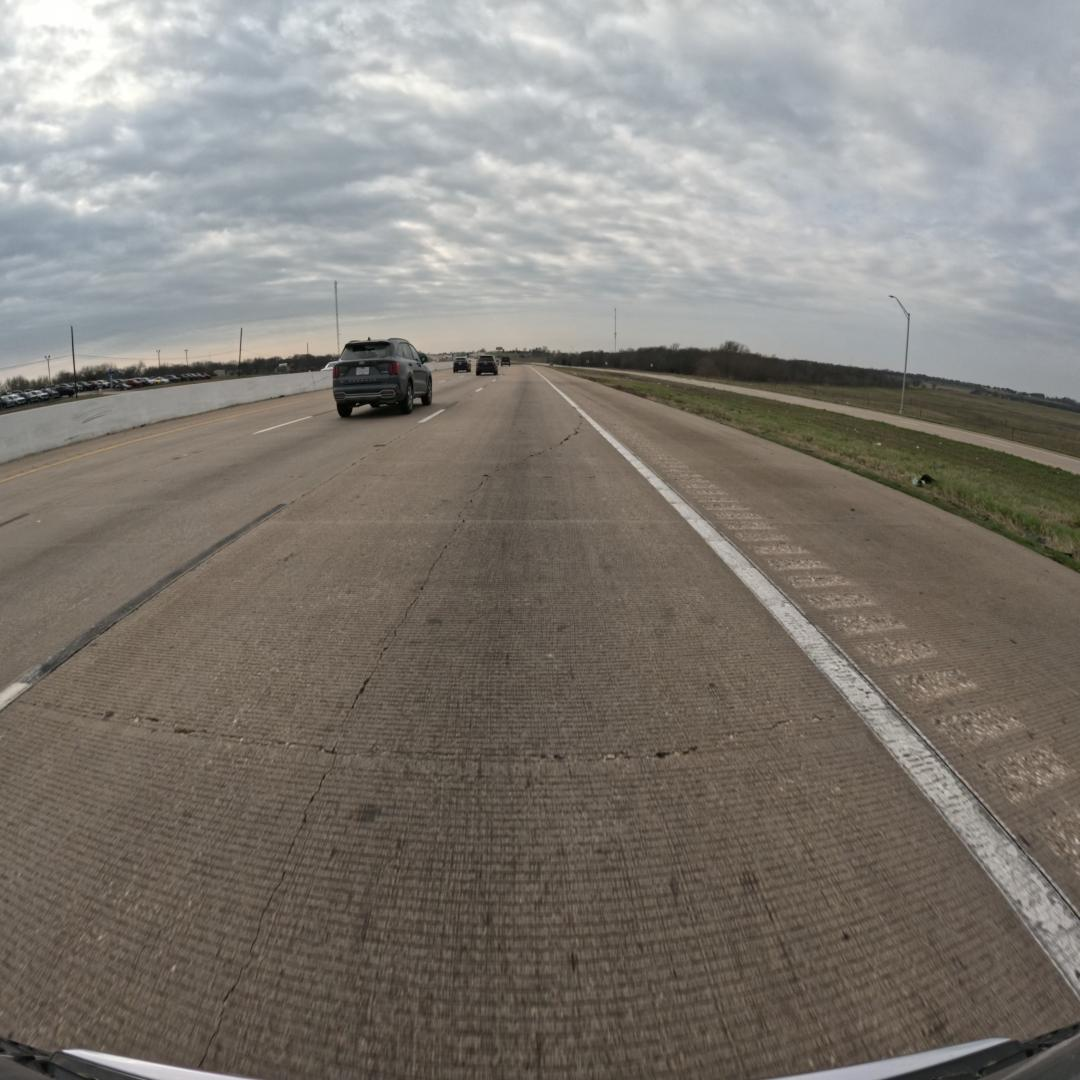lane0: (0, 373, 1080, 1077)
lane1: (0, 397, 451, 707)
